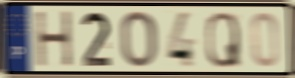0: (249, 10, 281, 69)
2: (81, 10, 113, 68)
4: (163, 10, 199, 70)
H: (34, 9, 75, 69)
O: (119, 9, 158, 70)
Q: (205, 10, 242, 69)
